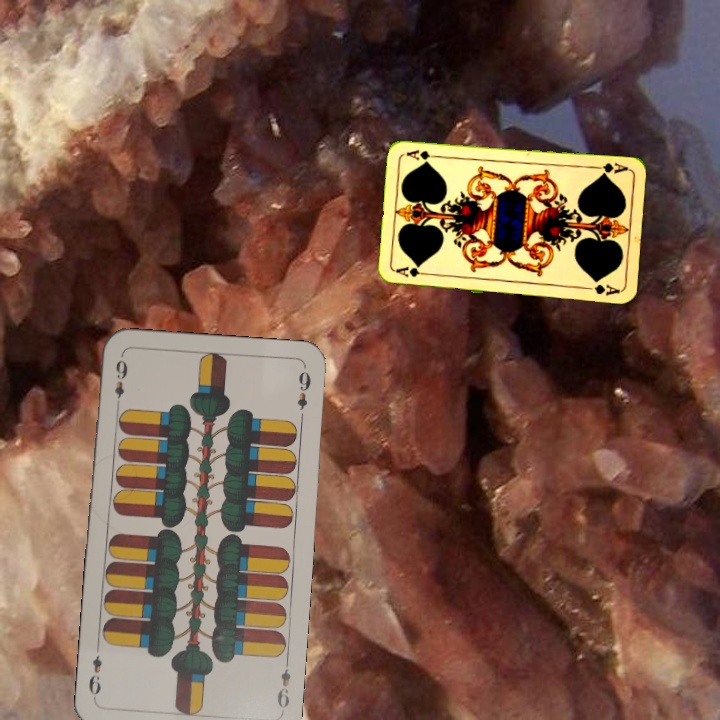E9: (273, 655, 294, 714), (110, 352, 130, 411)
GA: (589, 159, 630, 178), (392, 263, 433, 279)
